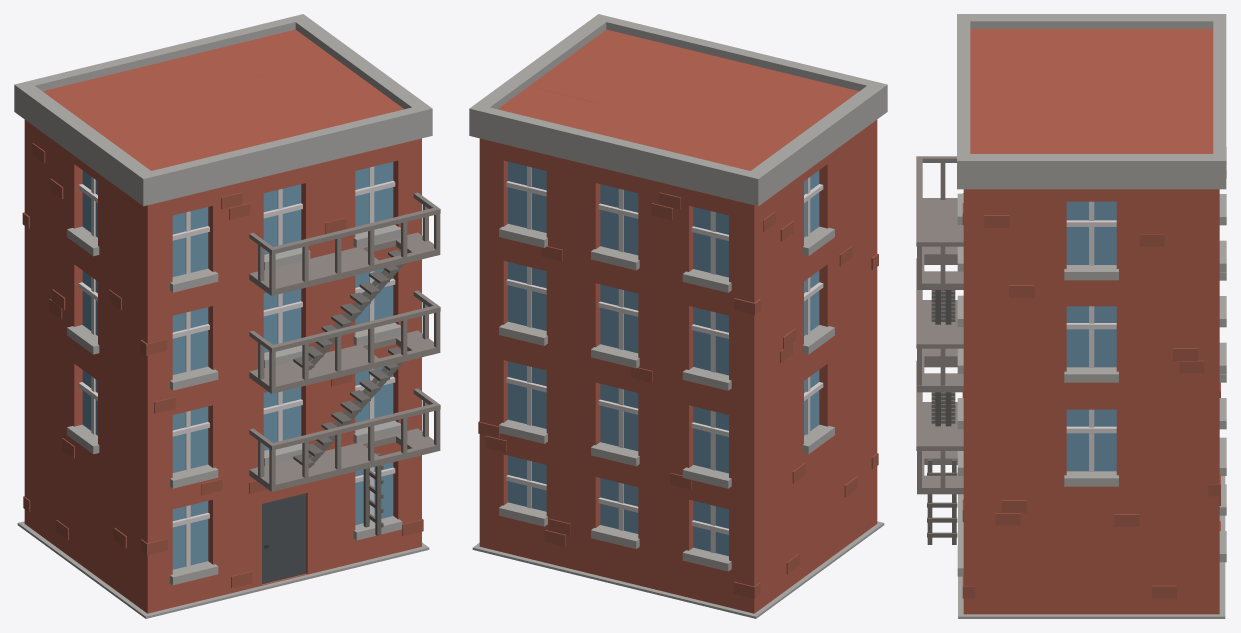
The model's file is House_21.fbx.
3 renders of one model, left to right at view 1: azimuth 30°, elevation 25°; view 2: azimuth 150°, elevation 25°; view 3: azimuth 270°, elevation 25°, orthographic. The views are drawn at different scales.
Parts seen in each view (by area): view 1: House_21; view 2: House_21; view 3: House_21.
Boxes of the visible parts, x1,y1,x2,y2 form: House_21: (14,14,440,618); House_21: (469,14,887,618); House_21: (916,14,1226,618).
Bounding box in the file's own units: 14.28 × 20.81 × 12.74.
